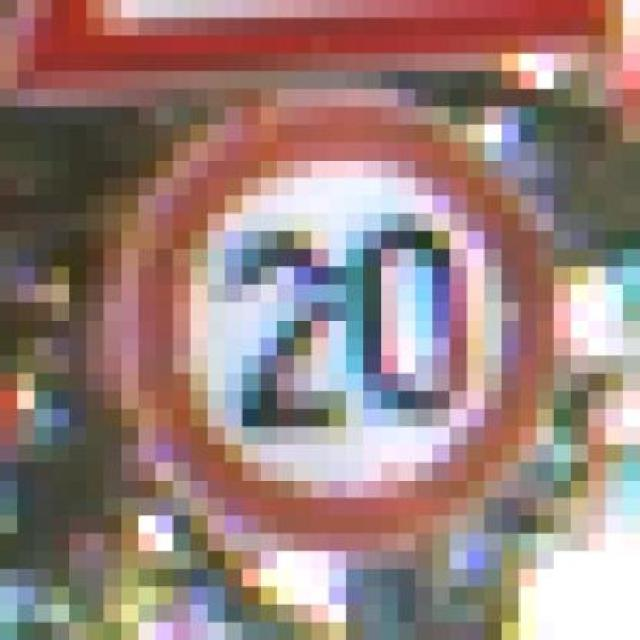forb_speed_over_20: (147, 111, 556, 535)
